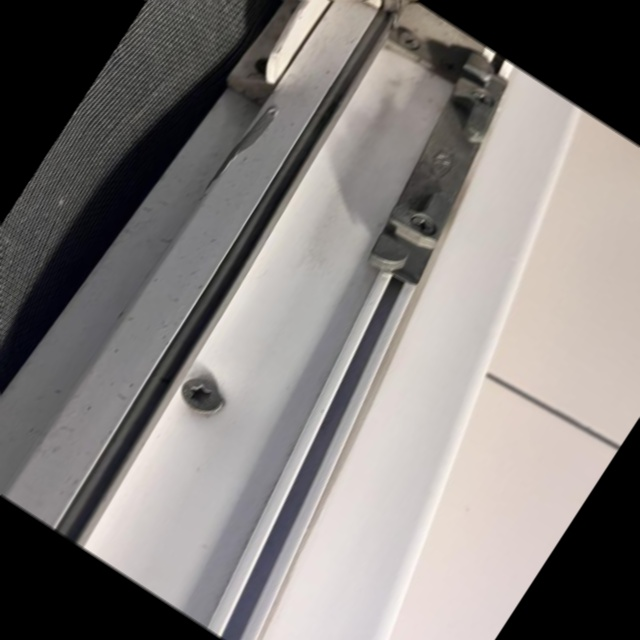phillips: (407, 211, 438, 239), (395, 27, 422, 53), (436, 54, 464, 79), (469, 86, 496, 110)
torx: (174, 370, 228, 420)
